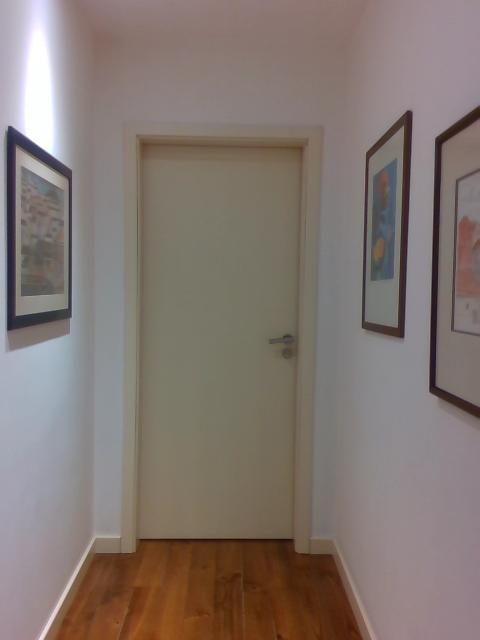door: (136, 145, 302, 538)
